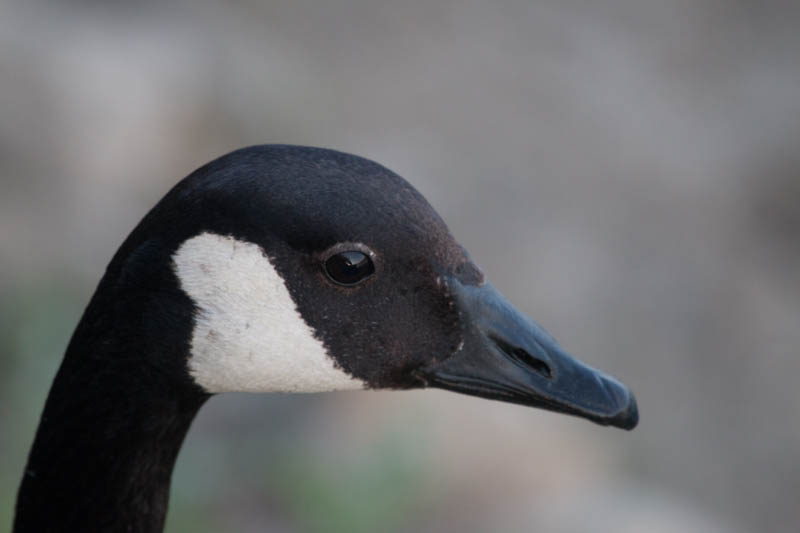goose-head: (58, 144, 639, 431)
